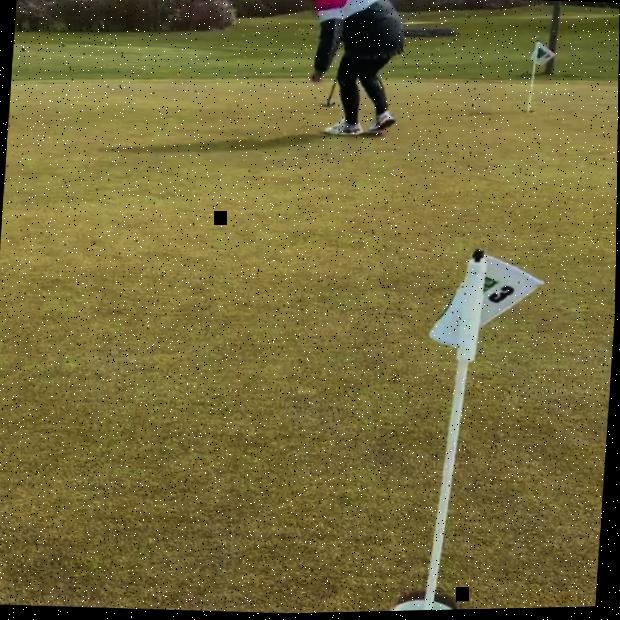ClubHead: (319, 103, 335, 108)
